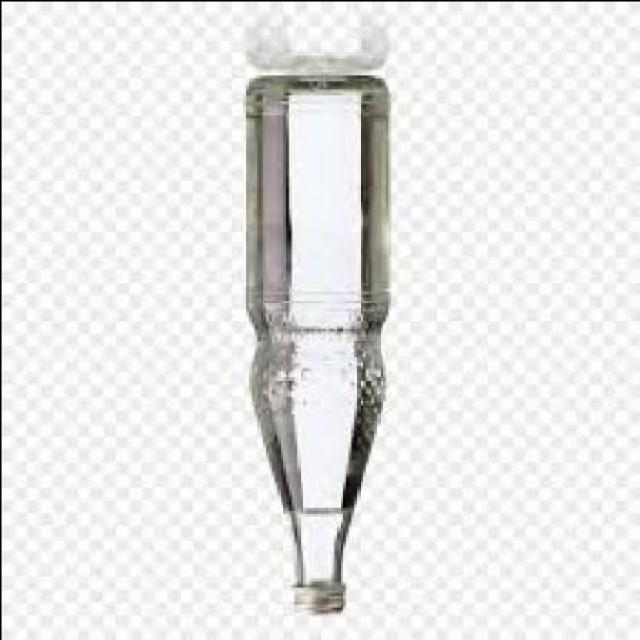glass: (248, 80, 395, 589)
metal: (298, 592, 351, 617)
